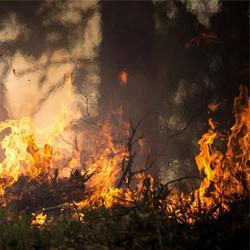fire: (2, 118, 61, 182), (202, 124, 248, 200), (90, 152, 121, 208)
